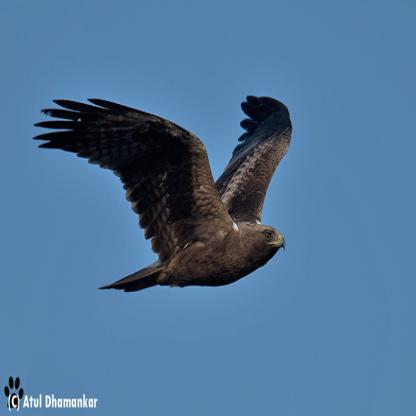Burung: (35, 91, 292, 292)
